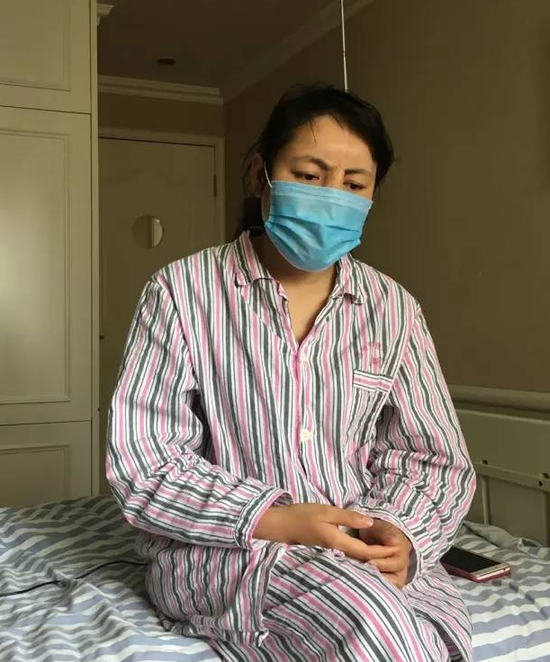face_mask: (269, 116, 375, 268)
